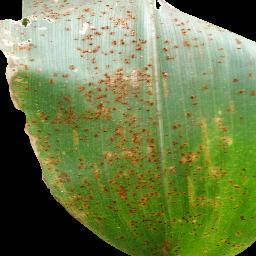Corn_Common_Rust: (0, 0, 155, 255), (157, 0, 255, 256)
